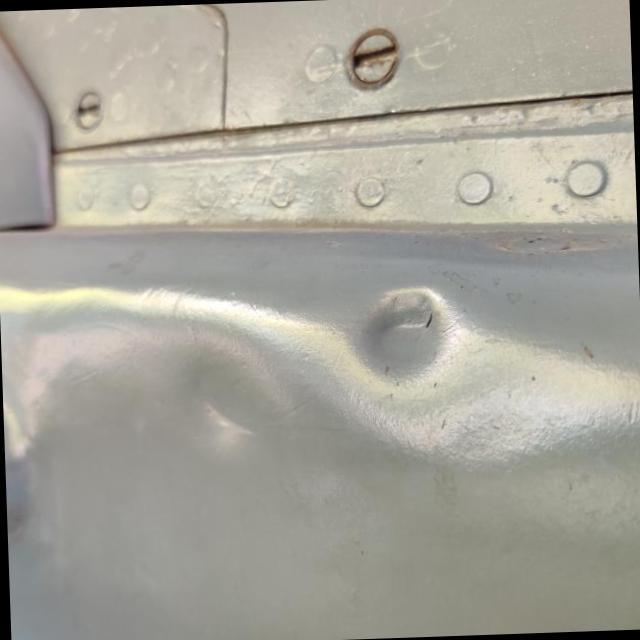Dent: (327, 259, 485, 416), (160, 353, 282, 462)
